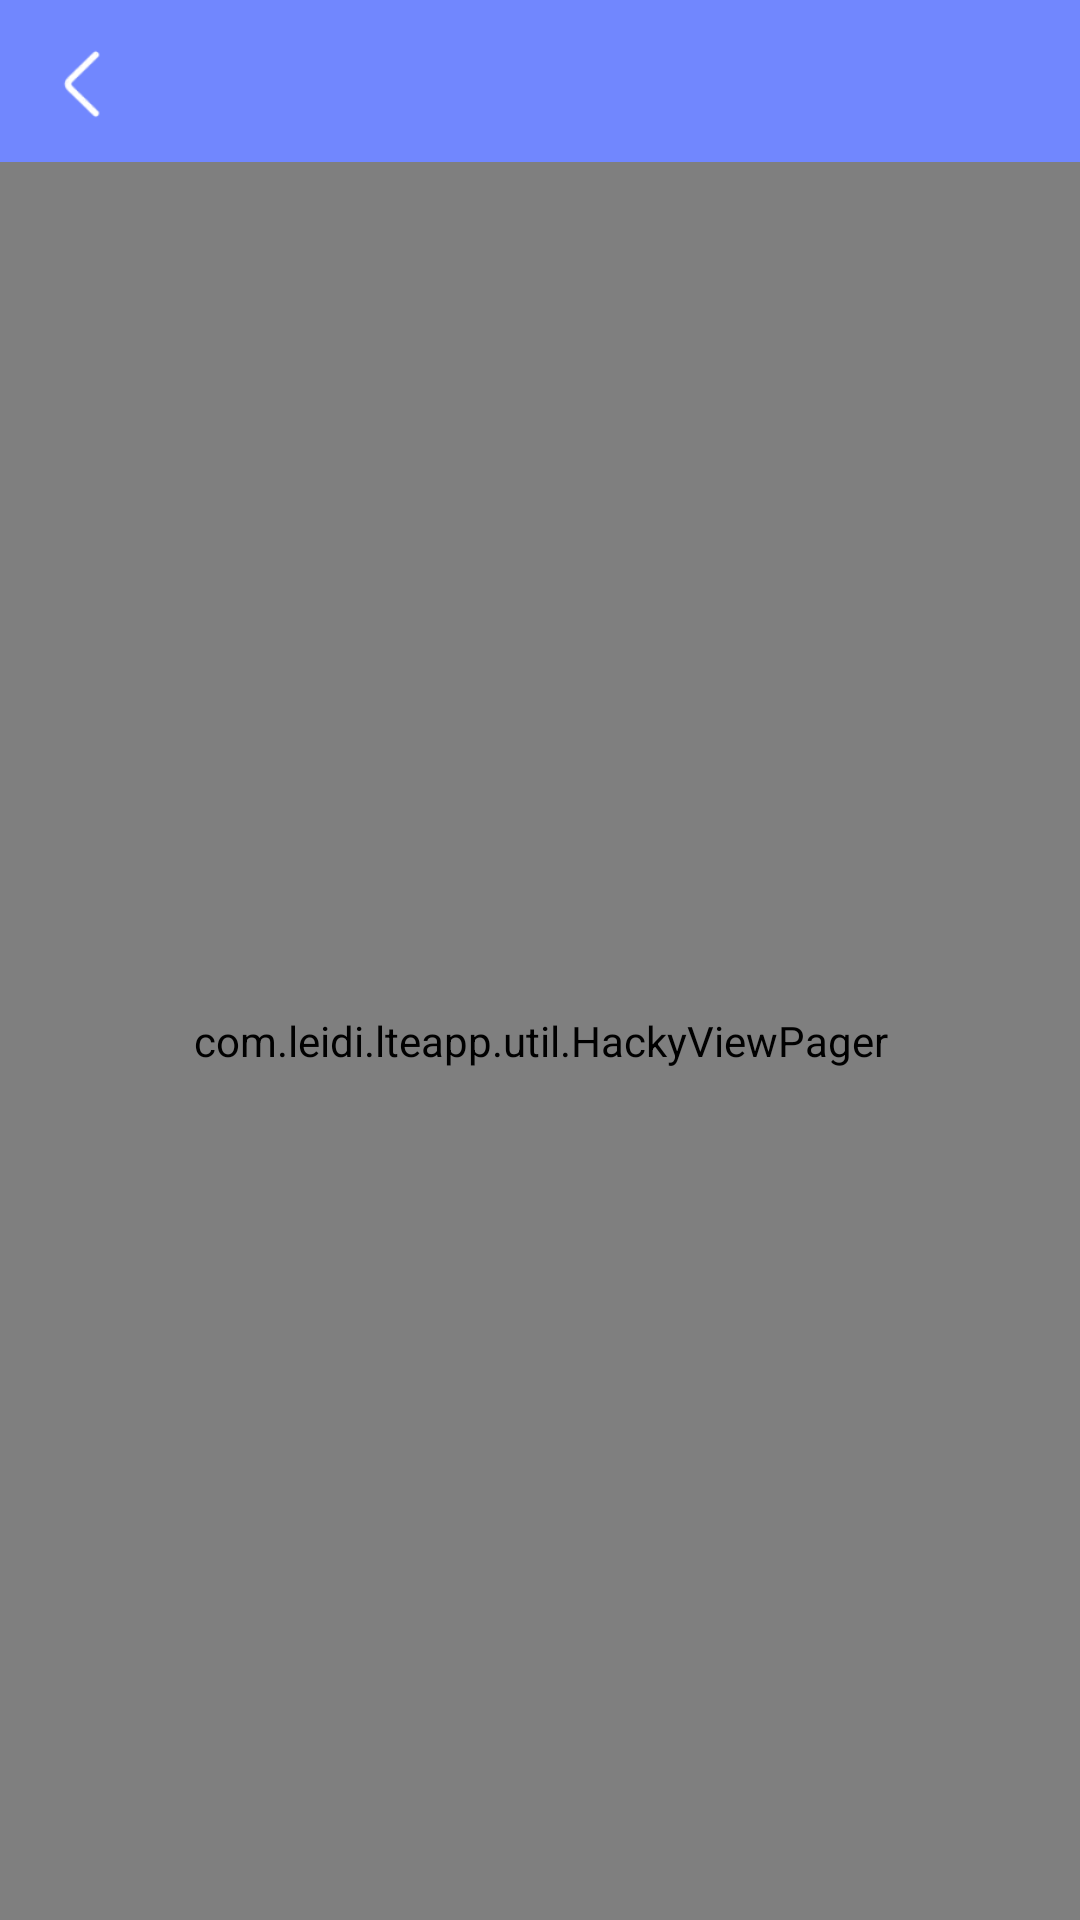

Icons on this 1080x1920 Android screen, each with the point to tap as point (x, y):
back: point (84, 84)
